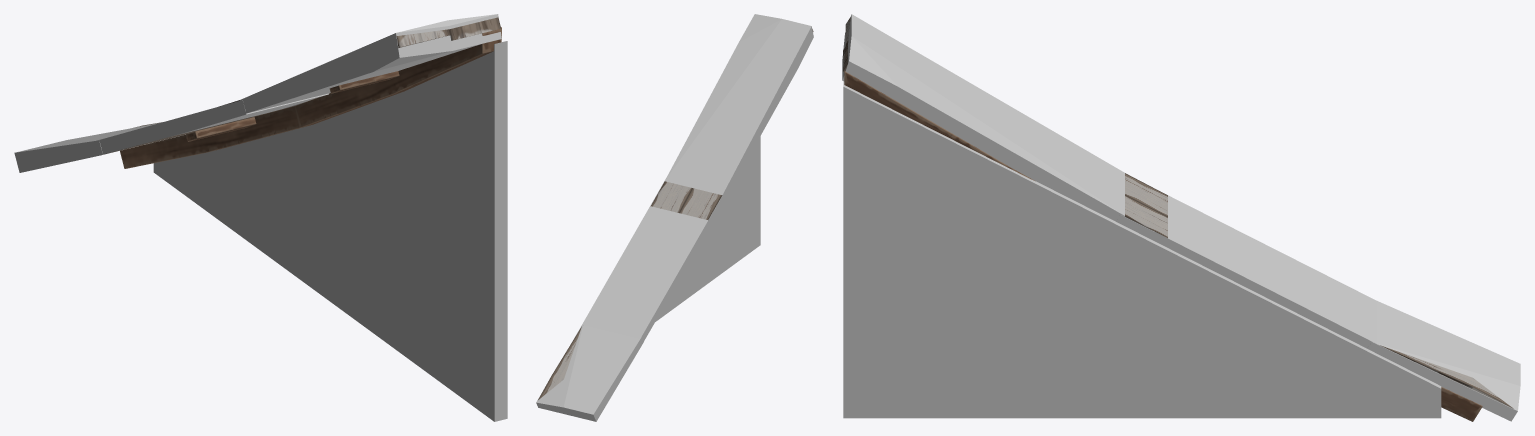
Rendered from SM_Hangar01RE_2.fbx.
3 views of the same model, side by side, from view 1: azimuth 30°, elevation 25°; view 2: azimuth 150°, elevation 25°; view 3: azimuth 270°, elevation 25° (orthographic). The views are drawn at different scales.
Parts seen in each view (by area): view 1: SM_Hangar01RE_2_ConvexHulls, SM_Hangar01RE_2; view 2: SM_Hangar01RE_2_ConvexHulls, SM_Hangar01RE_2; view 3: SM_Hangar01RE_2_ConvexHulls, SM_Hangar01RE_2.
Boxes of the visible parts, box(x1,y1,x2,y2) form: SM_Hangar01RE_2_ConvexHulls: box(14, 14, 507, 421); SM_Hangar01RE_2: box(104, 17, 501, 168); SM_Hangar01RE_2_ConvexHulls: box(536, 14, 813, 421); SM_Hangar01RE_2: box(538, 29, 813, 399); SM_Hangar01RE_2_ConvexHulls: box(842, 14, 1520, 421); SM_Hangar01RE_2: box(843, 17, 1513, 421).
Bounding box in the file's own units: 82.15 × 512 × 304.
6 materials, 5 textured.
